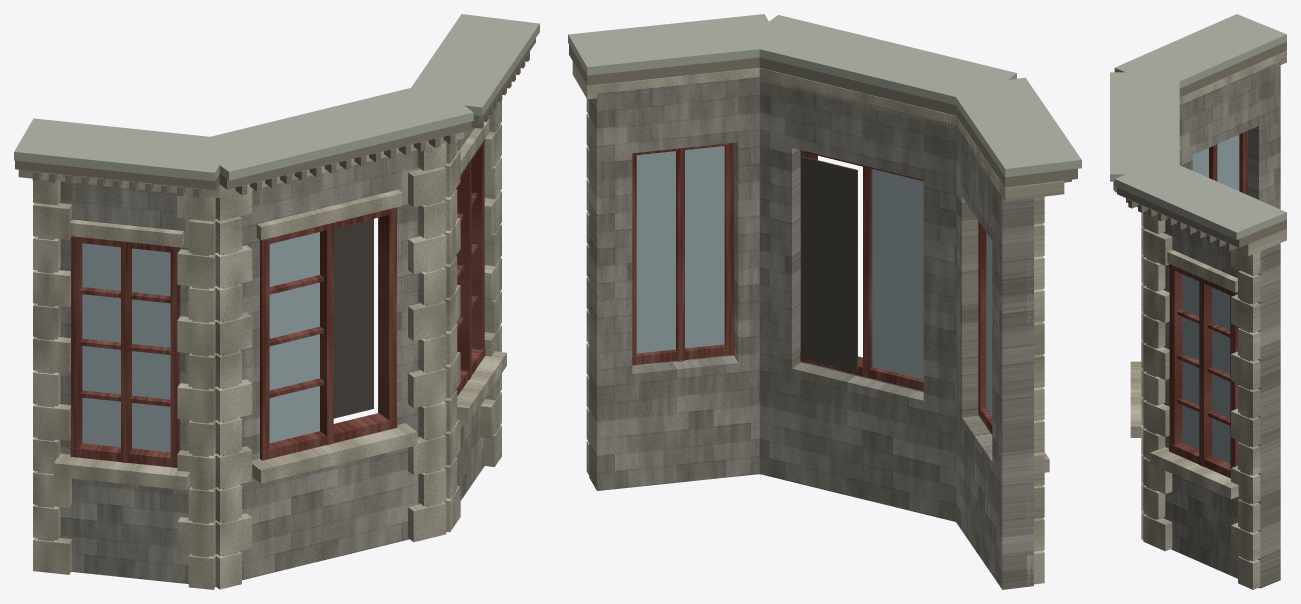
Rendered from xiasha-454-courtyard-faceted-bay-near.glb.
3 views of the same model, side by side, from view 1: azimuth 30°, elevation 25°; view 2: azimuth 150°, elevation 25°; view 3: azimuth 270°, elevation 25° (orthographic). The views are drawn at different scales.
Visible parts, largest first — view 1: 下沙街西段院内住宅南面折角凸窗与仿石隅饰; view 2: 下沙街西段院内住宅南面折角凸窗与仿石隅饰; view 3: 下沙街西段院内住宅南面折角凸窗与仿石隅饰.
Part boxes in pixels (x1=…): 下沙街西段院内住宅南面折角凸窗与仿石隅饰: x1=14, y1=14, x2=539, y2=589; 下沙街西段院内住宅南面折角凸窗与仿石隅饰: x1=568, y1=14, x2=1081, y2=589; 下沙街西段院内住宅南面折角凸窗与仿石隅饰: x1=1110, y1=14, x2=1286, y2=589.
Bounding box in the file's own units: 3.48 × 2.75 × 1.19.
Materials: 7 (3 with a texture image).
